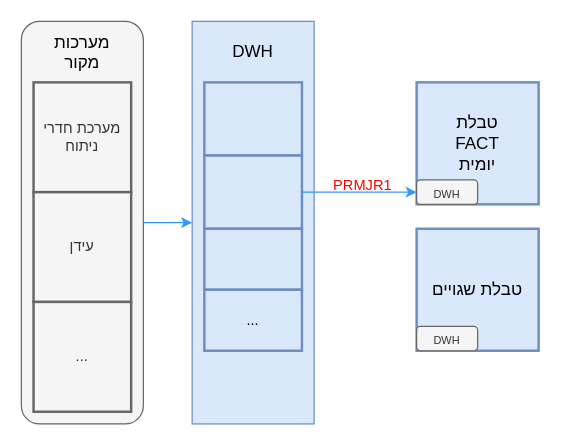
This 561x445 diagram has some shape labels left out. The centre of each missing label's shape, as x and y in pixels:
מודל דמוגרפיה: (x=253, y=191)
מודל הרשאות: (x=253, y=258)
מודל ניתוחים: (x=253, y=118)
